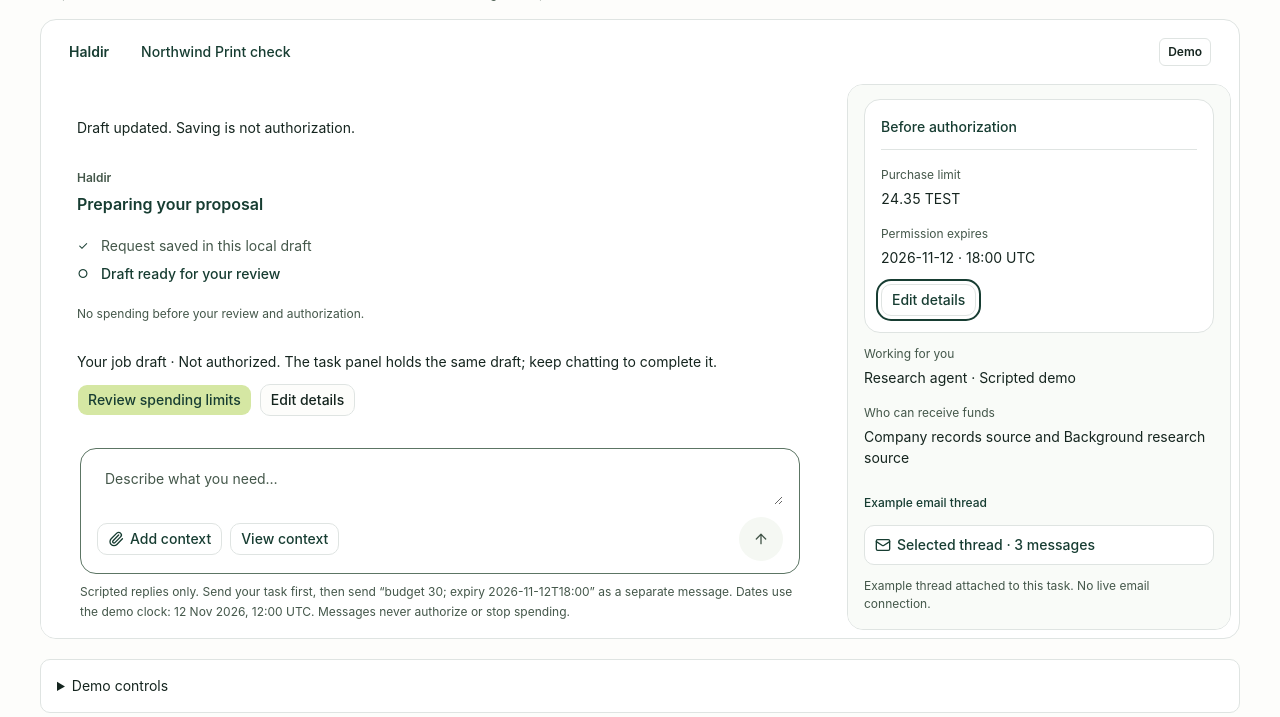
Scenario: scripted send synchronizes the draft, review and explicit authorization; never starts work from chat
Earlier steps of the test are not shown.
(page scrolled)
Step 1. Click the button "Review spending limits" → (164, 400), box [77, 384, 252, 416]
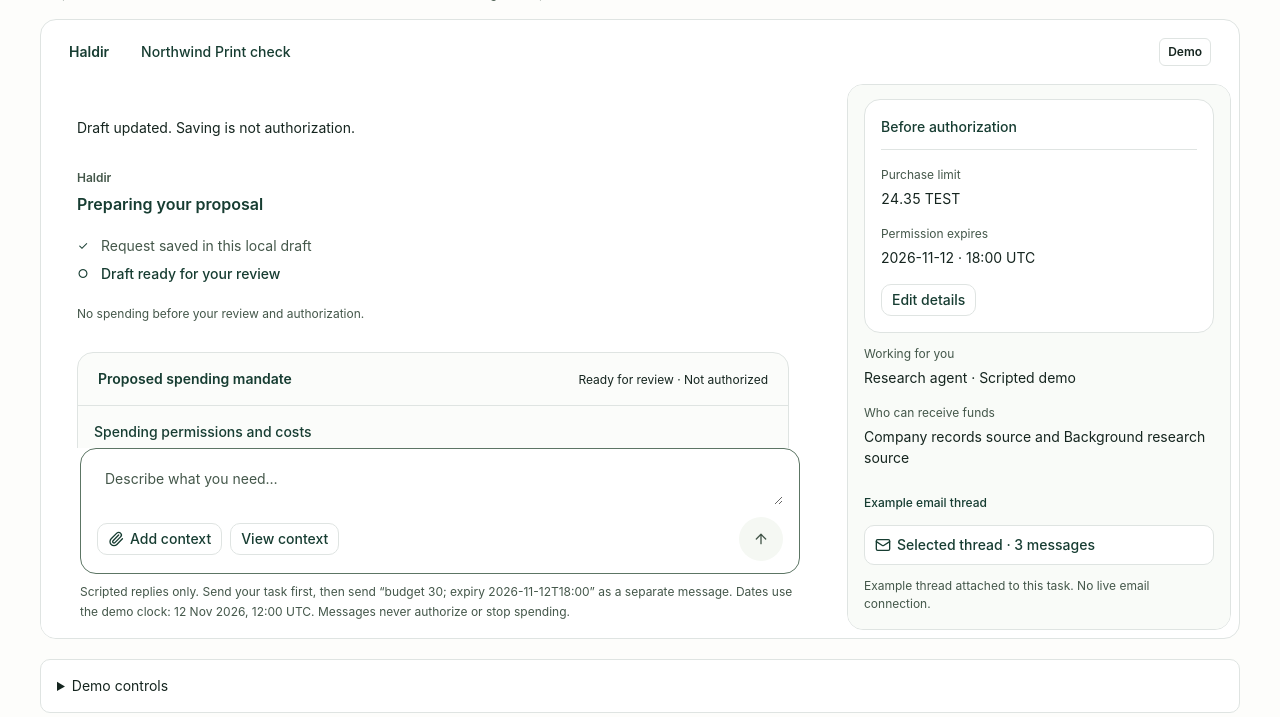
Step 2. Type "I approve" into the text box named "Your message" → (440, 483), box [97, 461, 783, 505]
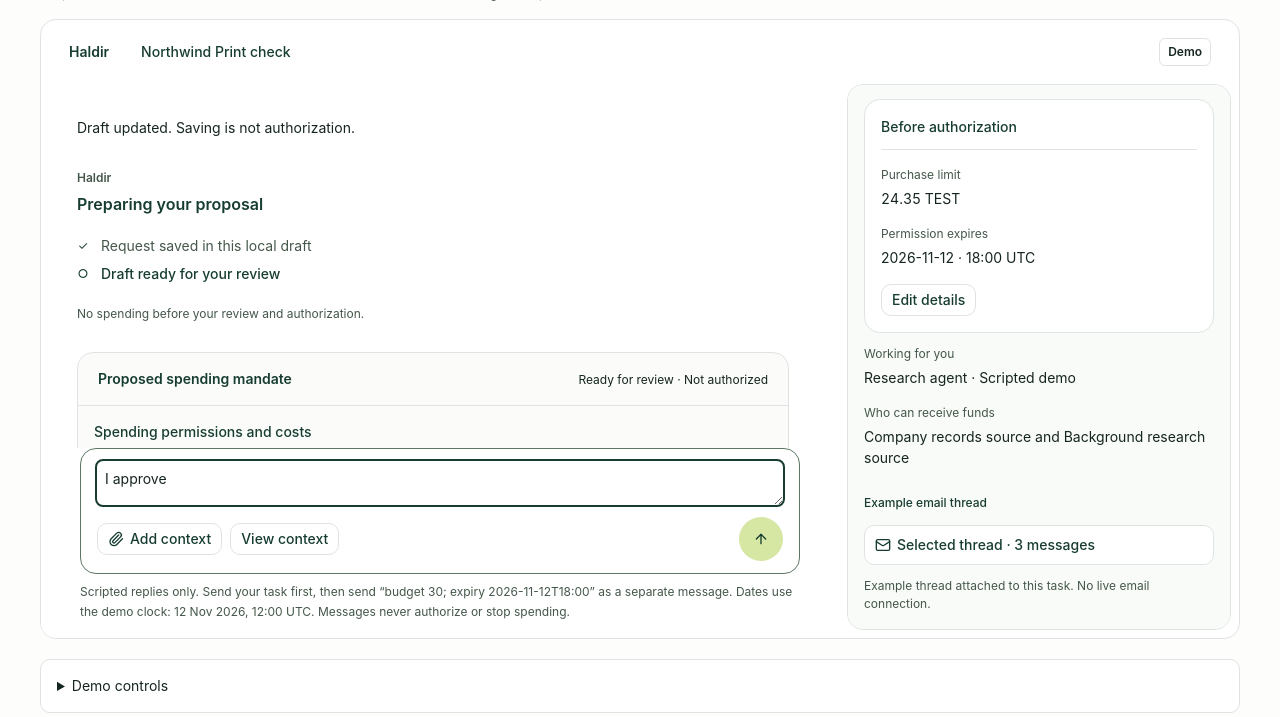
Step 3. Click the button named "Send message" → (761, 539), box [739, 517, 783, 561]
(page scrolled)
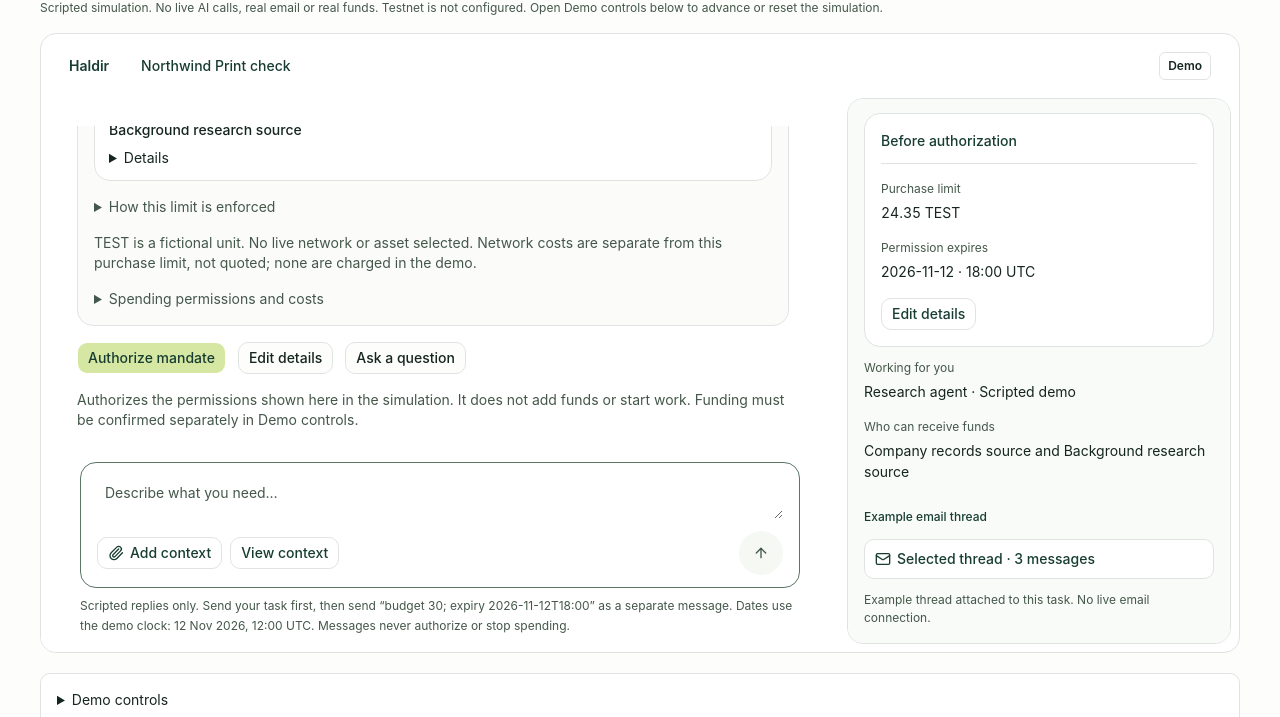
expect the button "Authorize mandate" is shown: met
Step 4. Click the button "Authorize mandate" → (151, 358), box [77, 342, 226, 374]
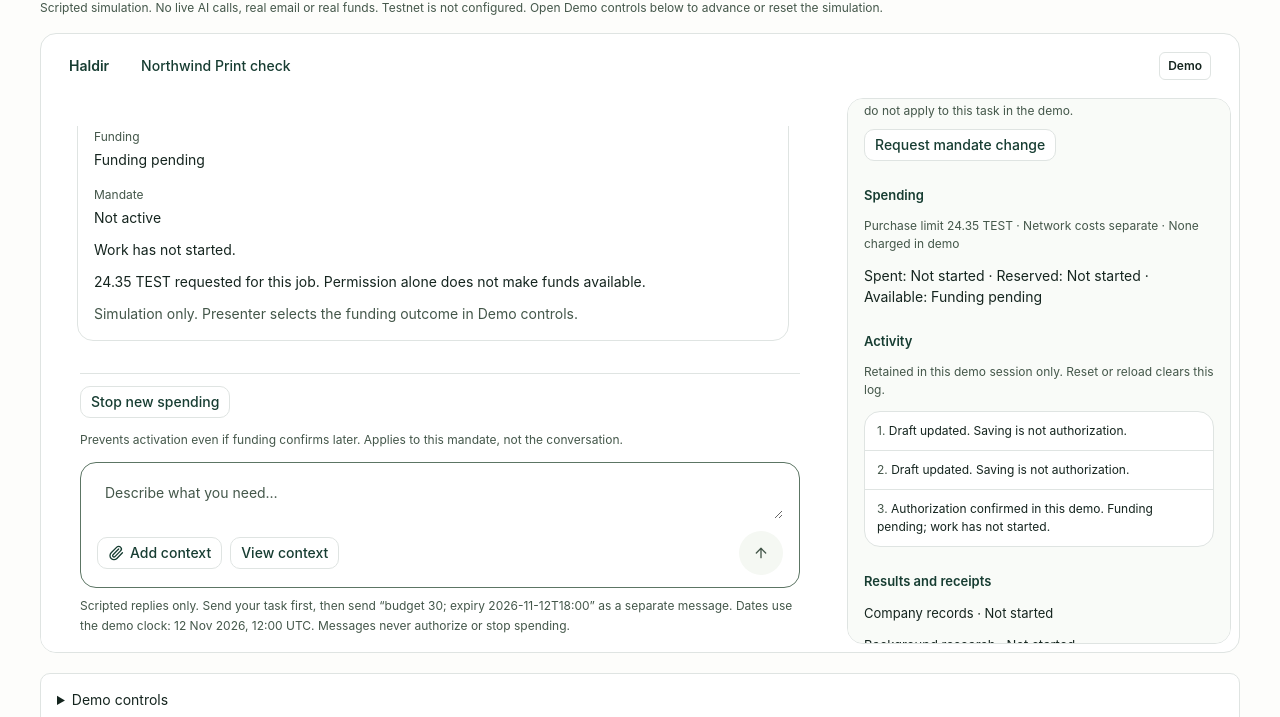
expect the element "Activation status" shows "Funding pending": met, box [94, 151, 205, 168]
expect the button "Authorize mandate" is gone: met
expect the text "Work has not started." is shown: met, box [94, 241, 236, 258]
